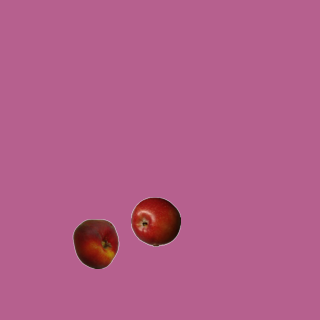Apple Braeburn: (130, 196, 180, 246)
Nectarine Flat: (70, 218, 120, 268)
